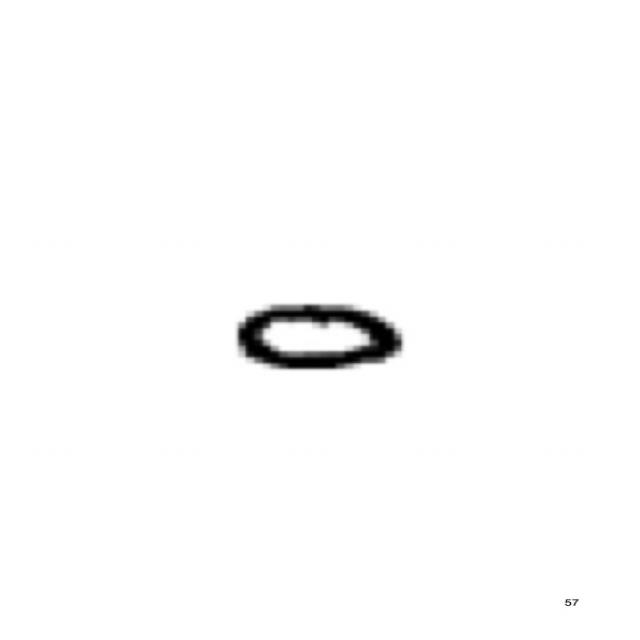5 -five-: (223, 293, 413, 382)
